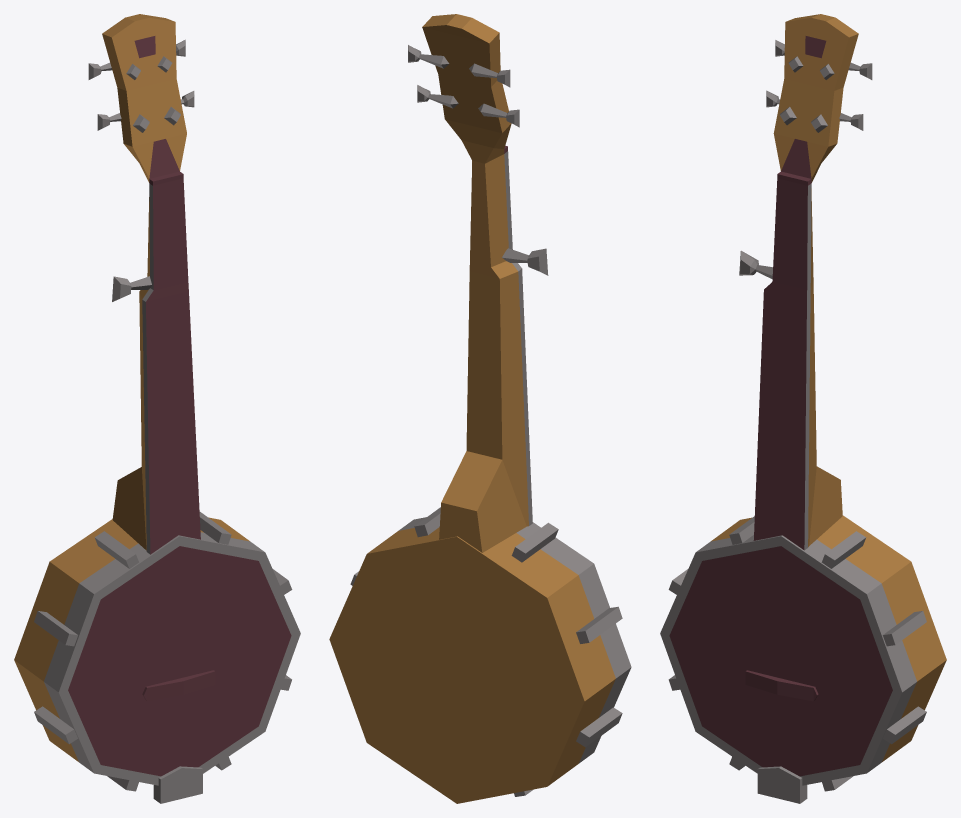
File: banjo.fbx
The picture shows the model from 3 angles, left to right: view 1: azimuth 30°, elevation 25°; view 2: azimuth 150°, elevation 25°; view 3: azimuth 330°, elevation 25°; orthographic projection. The views are drawn at different scales.
Parts seen in each view (by area): view 1: banjo; view 2: banjo; view 3: banjo.
Boxes of the visible parts, left/top/right/bottom form: banjo: left=14, top=14, right=300, bottom=803; banjo: left=329, top=14, right=631, bottom=803; banjo: left=660, top=14, right=946, bottom=803.
Bounding box in the file's own units: 0.228 × 0.6748 × 0.0831.
